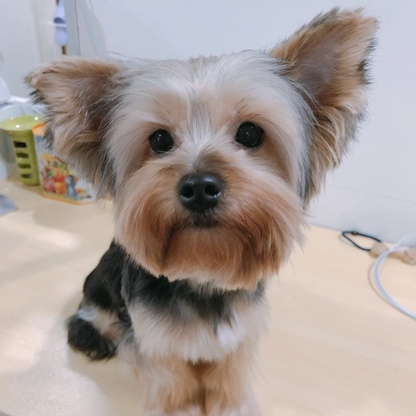yokshine: (23, 7, 379, 412)
